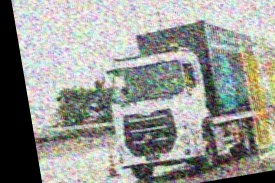truck: (98, 14, 270, 183)
